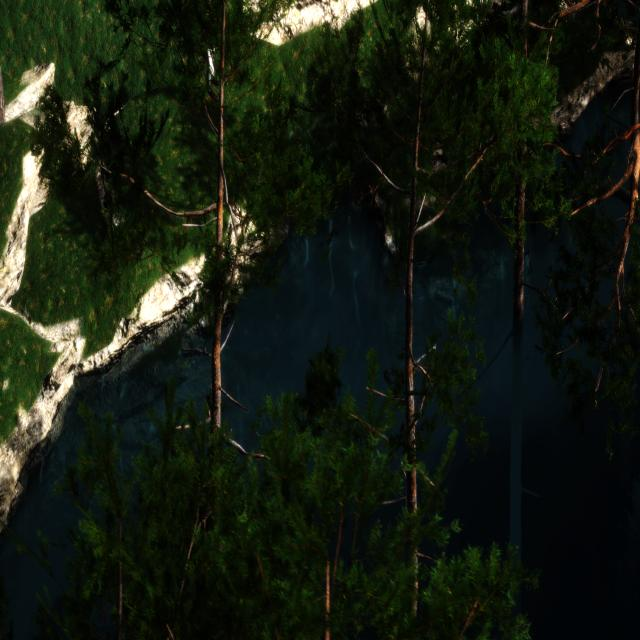Human: (201, 22, 232, 92)
